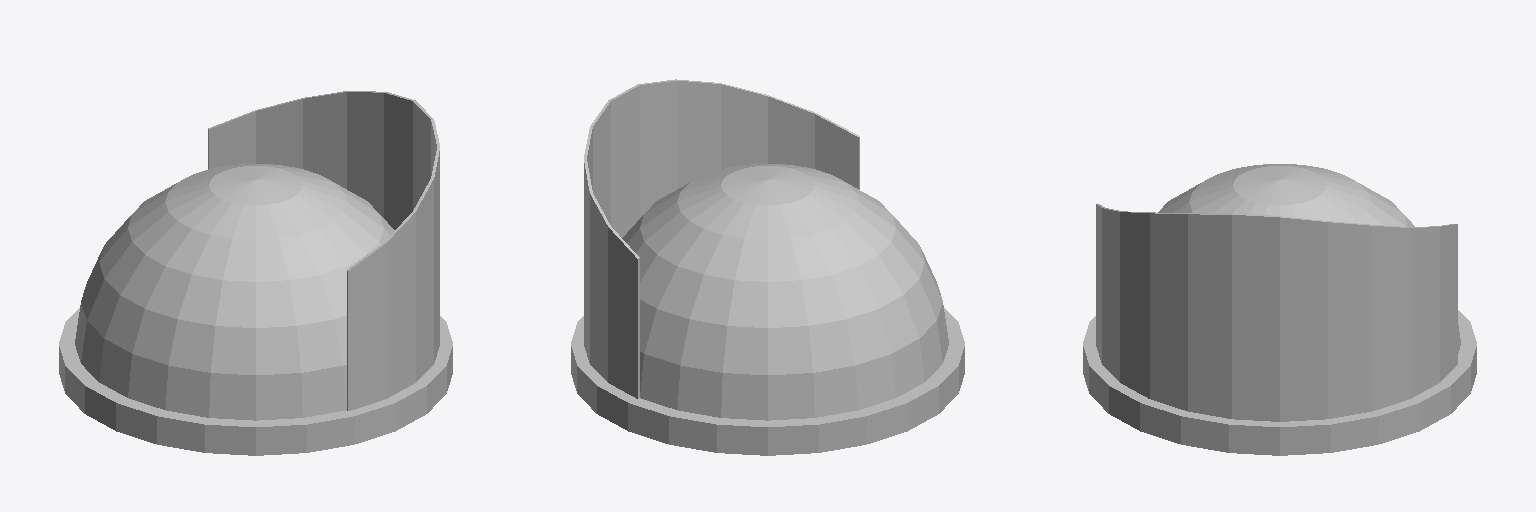
The model's file is lamp_wallp.obj.
The picture shows the model from 3 angles: view 1: azimuth 30°, elevation 25°; view 2: azimuth 150°, elevation 25°; view 3: azimuth 270°, elevation 25°; orthographic projection.
Parts seen in each view (by area): view 1: Sphere; view 2: Sphere; view 3: Sphere.
Part boxes in pixels (x1,y1,x2,y2): Sphere: (59,91,452,455); Sphere: (571,79,964,455); Sphere: (1083,164,1476,455).
Bounding box in the file's own units: 2.18 × 1.42 × 2.18.